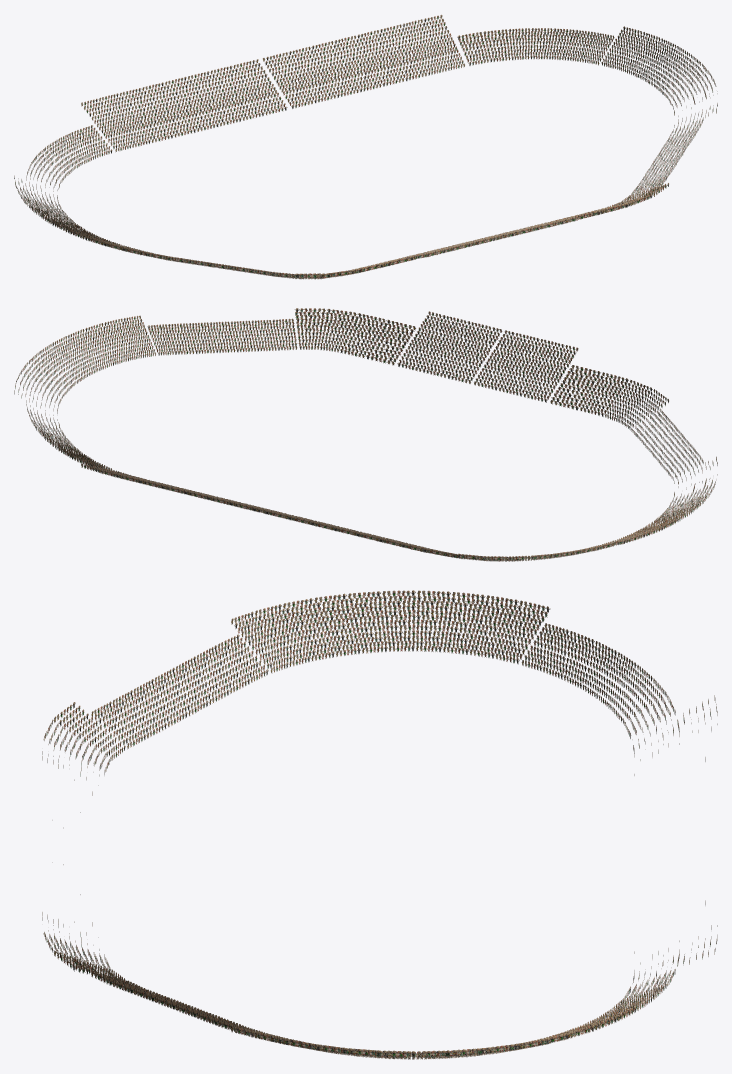
Rendered from Track3_Peoples.fbx.
The picture shows the model from 3 angles, top to bottom: view 1: azimuth 30°, elevation 25°; view 2: azimuth 150°, elevation 25°; view 3: azimuth 270°, elevation 25°; orthographic projection. The views are drawn at different scales.
Visible parts, largest first — view 1: polySurface185, polySurface120, polySurface124, polySurface122, polySurface189, polySurface186, polySurface123, polySurface125, polySurface112, polySurface187, polySurface184, polySurface111 (+28 smaller); view 2: polySurface125, polySurface189, polySurface166, polySurface85, polySurface81, polySurface87, polySurface86, polySurface84, polySurface82, polySurface101, polySurface83, polySurface188 (+7 smaller); view 3: polySurface101, polySurface165, polySurface162, polySurface164, polySurface163, polySurface160, polySurface154, polySurface159, polySurface161, polySurface155, polySurface156, polySurface158 (+2 smaller).
Part boxes in pixels (bbox=[...]): polySurface185: bbox=[91, 73, 267, 120]; polySurface120: bbox=[274, 33, 451, 79]; polySurface124: bbox=[265, 18, 443, 65]; polySurface122: bbox=[269, 26, 447, 72]; polySurface189: bbox=[81, 59, 258, 106]; polySurface186: bbox=[89, 70, 265, 116]; polySurface123: bbox=[267, 22, 445, 68]; polySurface125: bbox=[262, 14, 442, 61]; polySurface112: bbox=[283, 49, 458, 95]; polySurface187: bbox=[86, 66, 262, 113]; polySurface184: bbox=[94, 77, 269, 123]; polySurface111: bbox=[291, 63, 464, 108]; polySurface125: bbox=[81, 463, 258, 511]; polySurface189: bbox=[262, 509, 442, 555]; polySurface166: bbox=[457, 542, 614, 560]; polySurface85: bbox=[152, 331, 295, 341]; polySurface81: bbox=[158, 345, 297, 355]; polySurface87: bbox=[150, 324, 294, 335]; polySurface86: bbox=[151, 328, 295, 338]; polySurface84: bbox=[154, 335, 296, 345]; polySurface82: bbox=[156, 342, 297, 352]; polySurface101: bbox=[14, 315, 140, 394]; polySurface83: bbox=[155, 339, 296, 348]; polySurface188: bbox=[265, 510, 444, 555]; polySurface101: bbox=[231, 1026, 550, 1057]; polySurface165: bbox=[231, 590, 550, 624]; polySurface162: bbox=[241, 604, 542, 636]; polySurface164: bbox=[234, 595, 547, 628]; polySurface163: bbox=[237, 600, 544, 633]; polySurface160: bbox=[248, 614, 536, 645]; polySurface154: bbox=[255, 624, 530, 655]; polySurface159: bbox=[251, 619, 533, 650]; polySurface161: bbox=[244, 609, 539, 641]; polySurface155: bbox=[259, 630, 527, 660]; polySurface156: bbox=[263, 635, 524, 664]; polySurface158: bbox=[270, 645, 519, 673].
Bounding box in the file's own units: 21617 × 1044 × 13954.
